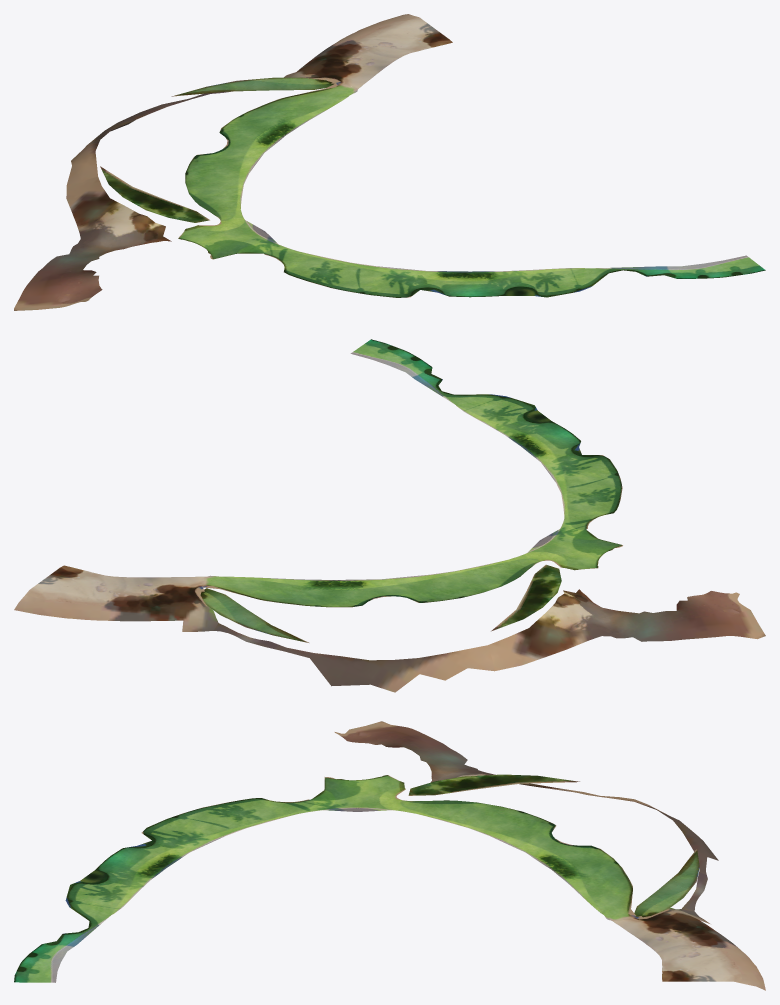
Rendered from pref_sm_beach_techsmall_001_bk_outer_R_lv0.fbx.
The picture shows the model from 3 angles, top to bottom: view 1: azimuth 30°, elevation 25°; view 2: azimuth 150°, elevation 25°; view 3: azimuth 270°, elevation 25°; orthographic projection. The views are drawn at different scales.
Parts seen in each view (by area): view 1: pref_sm_beach_techsmall_001_bk_outer_R_lv0; view 2: pref_sm_beach_techsmall_001_bk_outer_R_lv0; view 3: pref_sm_beach_techsmall_001_bk_outer_R_lv0.
Boxes of the visible parts, box(x1,y1,x2,y2) form: pref_sm_beach_techsmall_001_bk_outer_R_lv0: box(14, 14, 765, 310); pref_sm_beach_techsmall_001_bk_outer_R_lv0: box(14, 339, 765, 692); pref_sm_beach_techsmall_001_bk_outer_R_lv0: box(14, 721, 765, 990).
Bounding box in the file's own units: 79.44 × 4.16 × 86.31.
1 material, 1 textured.
